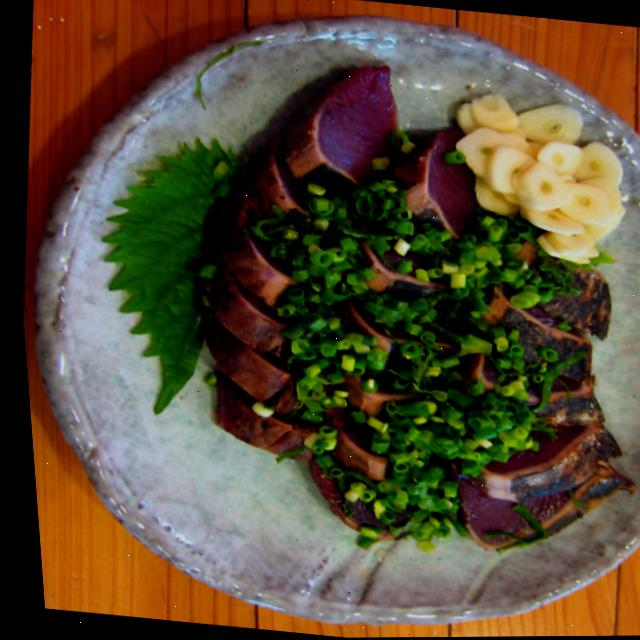熟制海鲜: (92, 12, 640, 612)
